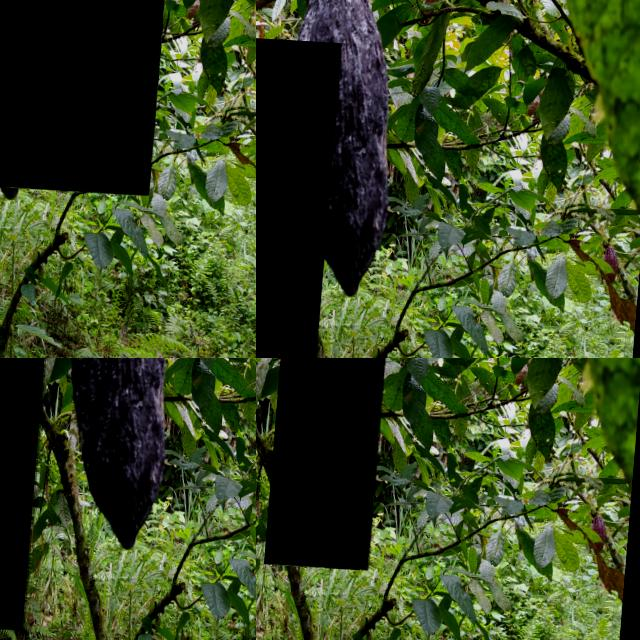Fitoftora: (0, 0, 171, 189), (256, 30, 345, 358), (272, 358, 398, 565), (0, 358, 65, 627)
